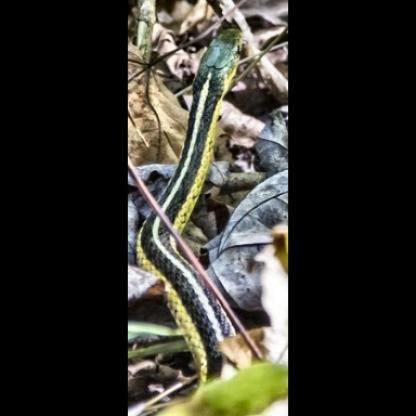Snake: (138, 19, 244, 400)
